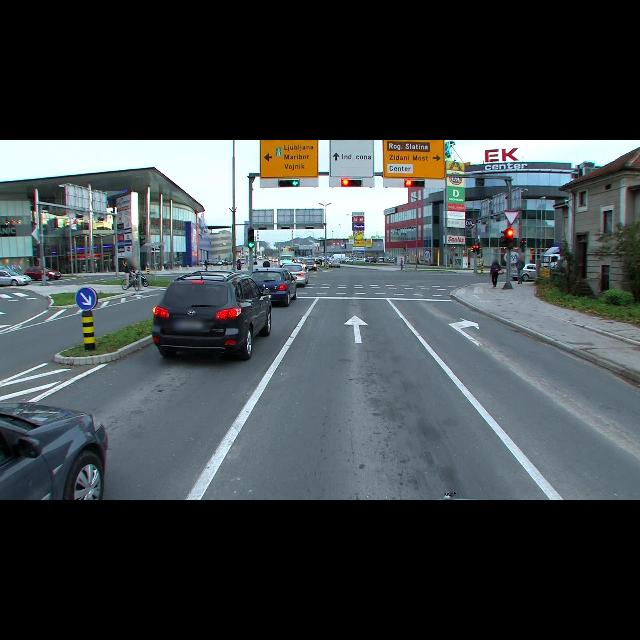Rectangle: (384, 141, 446, 177), (260, 140, 318, 178), (330, 140, 374, 178)
Round: (76, 286, 98, 310)
Triangle: (504, 210, 520, 224)
